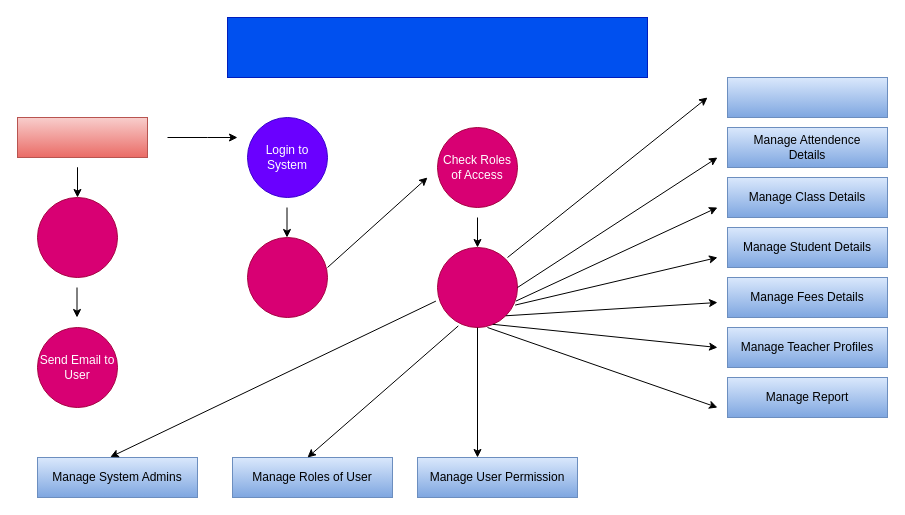
Image size: 905x515. Some labels were removed from this diagram. Here are the shapes that lost their labels. From the top down, the centre of each, then its label:
At [437,47]: "Student Informatio System".
At [807,97]: "Manage Timetable Details".
At [82,137]: "Admin".
At [77,237]: "Forgot Password".
At [287,277]: "Check Credentials".
At [477,287]: "Manage Modules".
